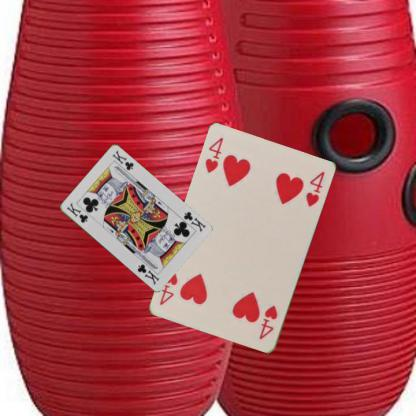4h: (203, 135, 225, 175), (257, 303, 279, 341)
Kc: (180, 209, 207, 234), (64, 200, 89, 224)
